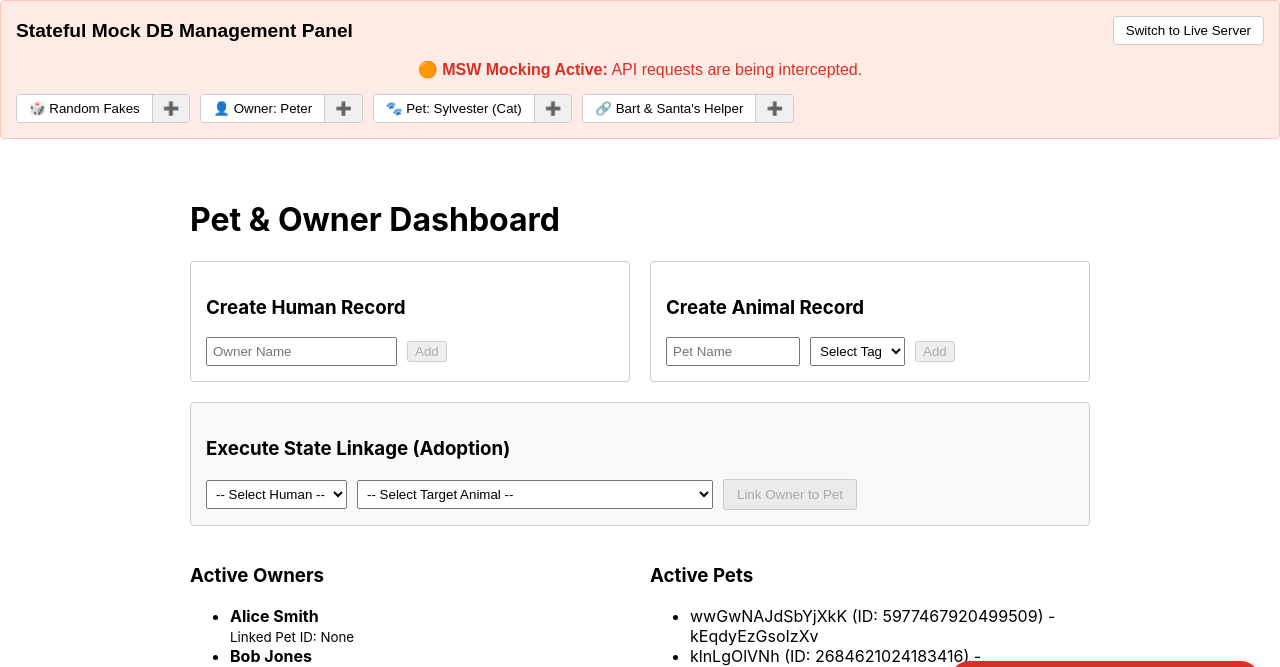
Test: Scenario Testing › a scenario will replace another
The image size is (1280, 667).
Expected: the heading "Stateful Mock DB Management Panel" is shown, [16,20,353,42]
Click the button "👤 Owner: Peter".
click(263, 109)  # box [201,95,325,122]
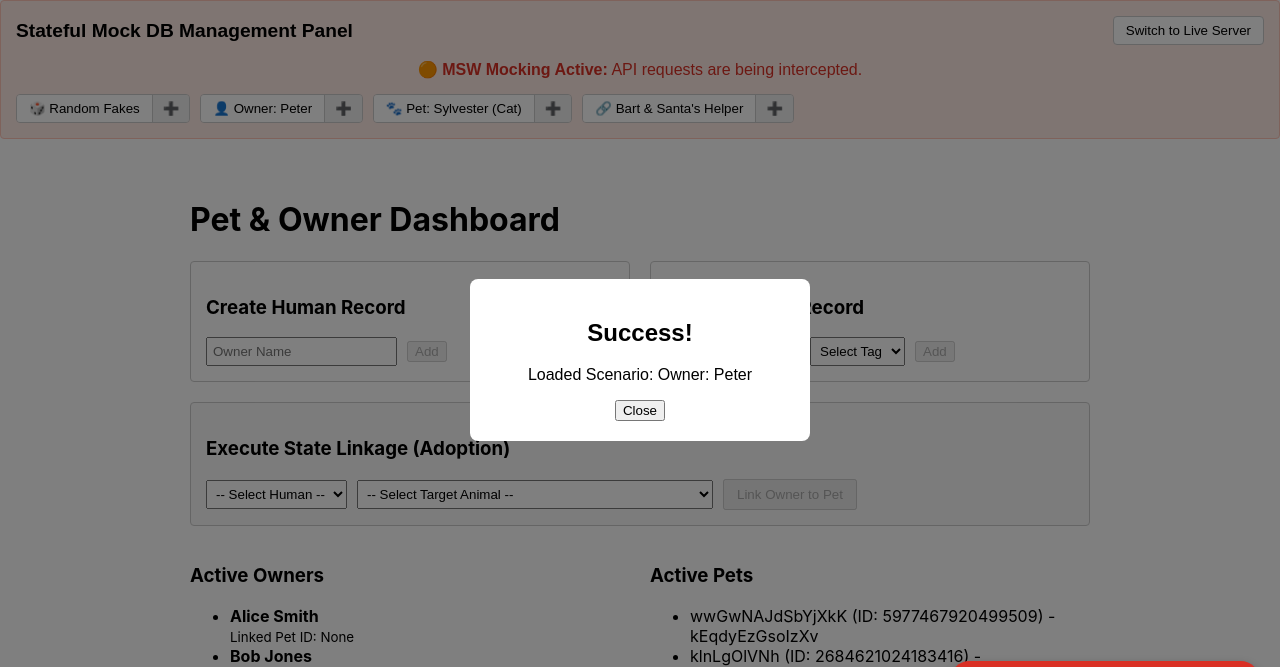
Expected: the heading "Success!" is shown, [587,318,693,346]
Expected: the text "Loaded Scenario: Owner: Peter" is shown, [528,366,752,383]
Click the button "Close".
click(640, 411)  # box [615,400,665,421]
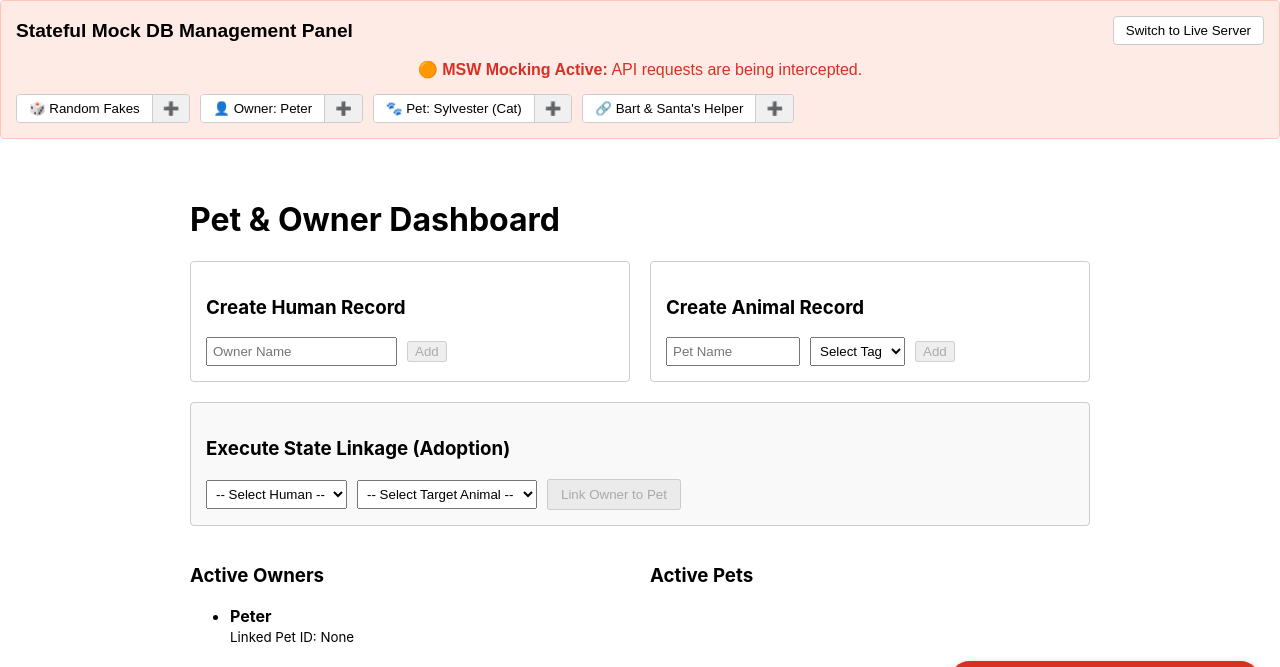
Expected: the number of list items is 1, [230,606,354,645]
Expected: the text "Peter" is shown, [230,606,272,626]
Click the button "🐾 Pet: Sylvester (Cat)".
click(455, 109)  # box [374,95,535,122]
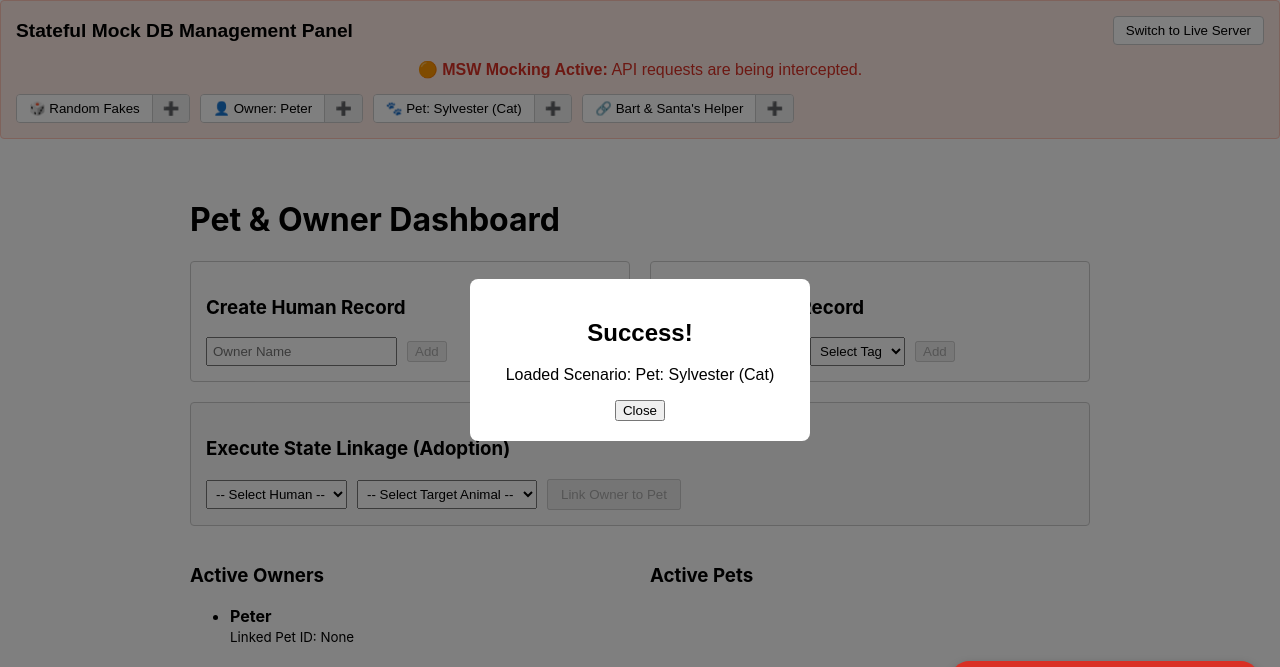
Expected: the heading "Success!" is shown, [587,318,693,346]
Expected: the text "Loaded Scenario: Pet: Sylvester (Cat)" is shown, [490,366,790,384]
Click the button "Close".
click(640, 411)  # box [615,400,665,421]
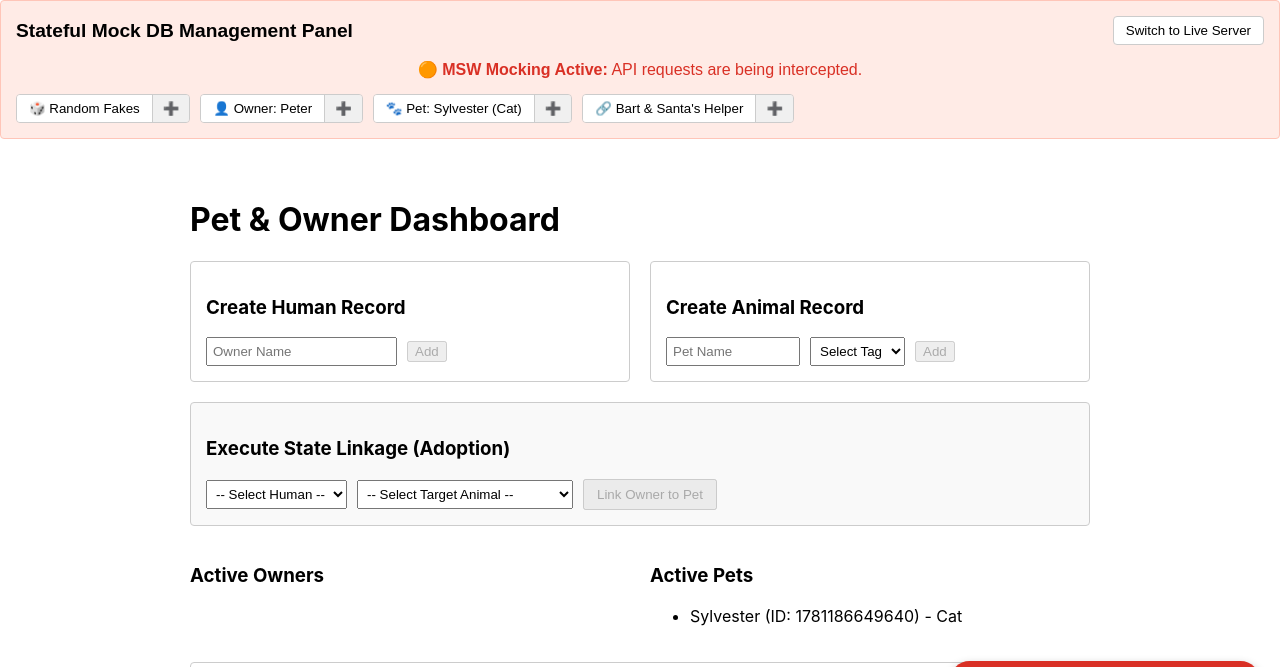
Expected: the number of list items is 1, [690,606,962,626]
Expected: the list item "Sylvester (ID: 1781186649640) - Cat" is shown, [690,606,962,626]
